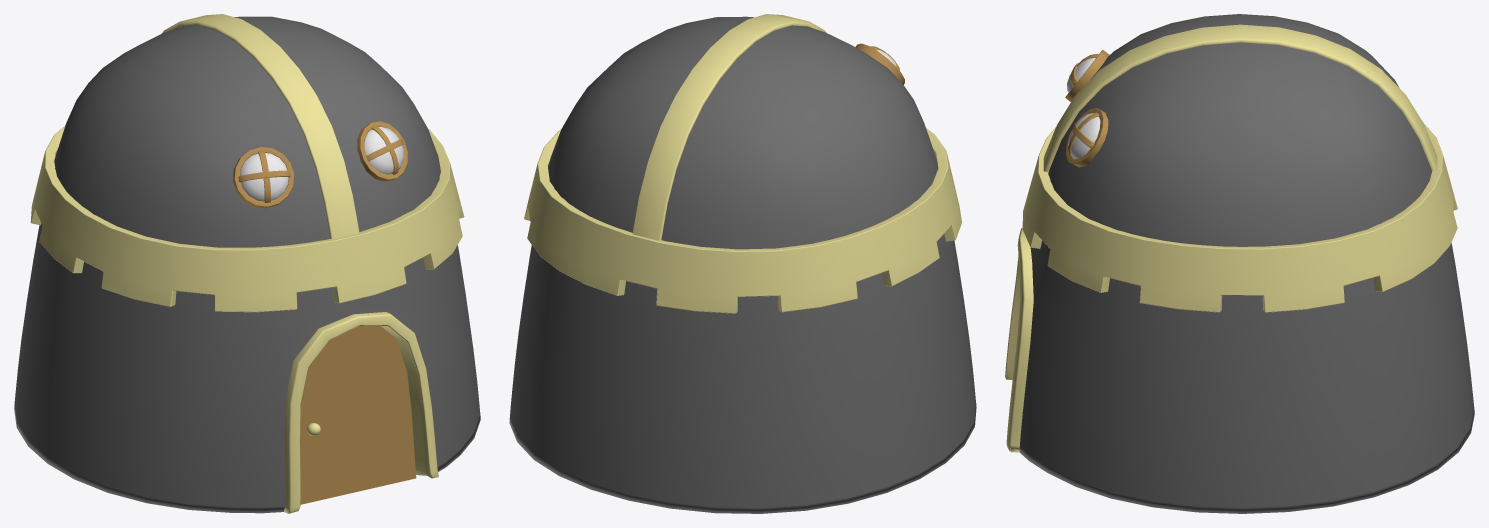
The model's file is SP_Aircraft01_Room01.fbx.
3 renders of one model, left to right at view 1: azimuth 30°, elevation 25°; view 2: azimuth 150°, elevation 25°; view 3: azimuth 270°, elevation 25°, orthographic.
Parts seen in each view (by area): view 1: SP_Aircraft01_Room01; view 2: SP_Aircraft01_Room01; view 3: SP_Aircraft01_Room01.
Boxes of the visible parts, bbox=[...] form: SP_Aircraft01_Room01: bbox=[14, 14, 480, 513]; SP_Aircraft01_Room01: bbox=[509, 14, 976, 513]; SP_Aircraft01_Room01: bbox=[1005, 14, 1474, 513].
Bounding box in the file's own units: 5.3 × 4.85 × 5.31.
